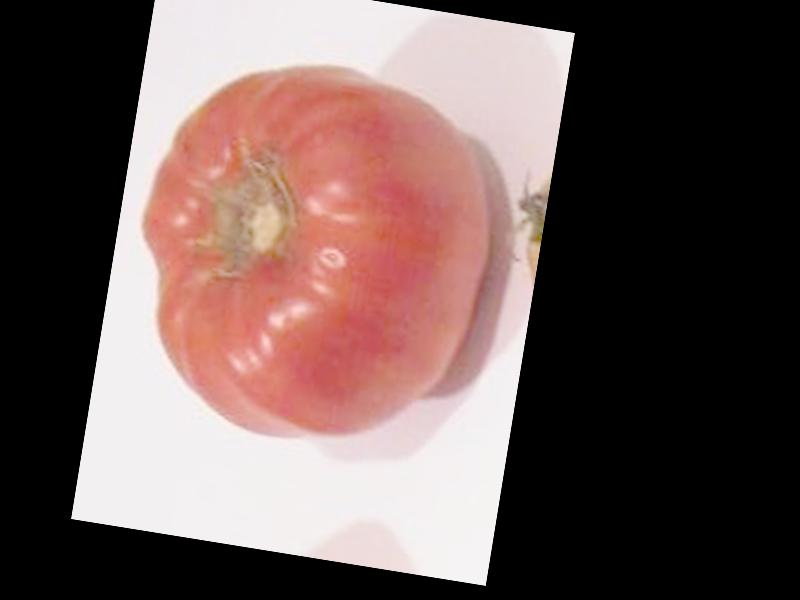Tomato: (114, 41, 507, 460)
